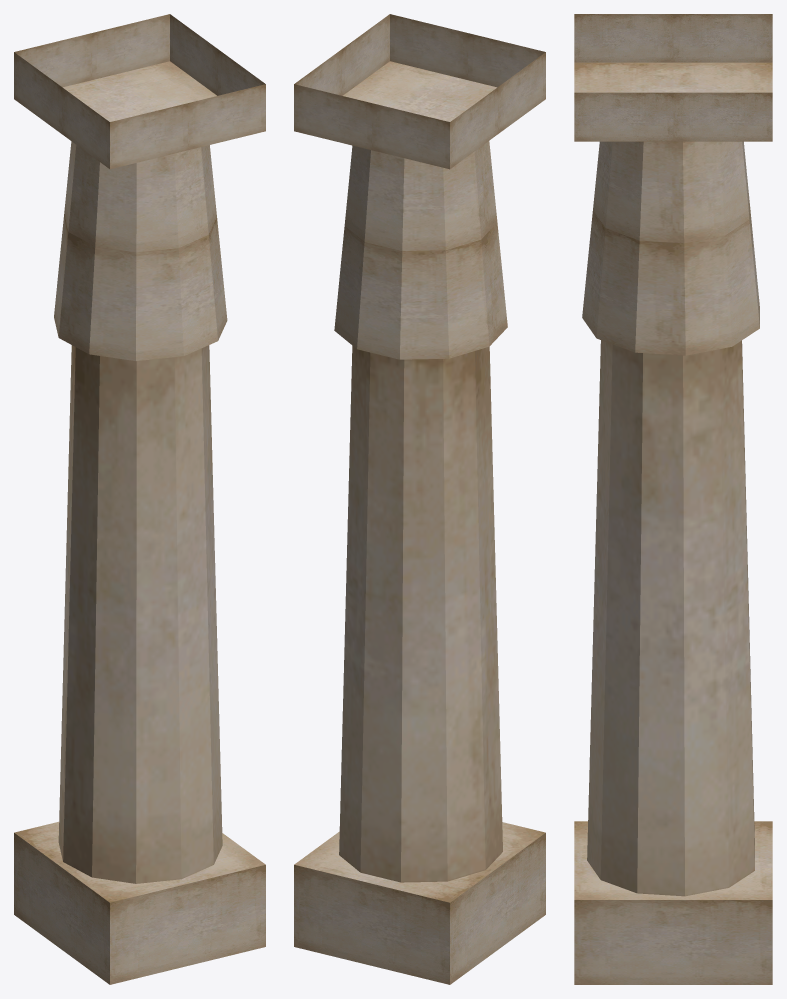
The model's file is luxorpillar04_lvs.obj.
3 renders of one model, left to right at view 1: azimuth 30°, elevation 25°; view 2: azimuth 150°, elevation 25°; view 3: azimuth 270°, elevation 25°, orthographic. The views are drawn at different scales.
Parts seen in each view (by area): view 1: luxorpillar04_lvs; view 2: luxorpillar04_lvs; view 3: luxorpillar04_lvs.
Part boxes in pixels (bbox=[...]): luxorpillar04_lvs: bbox=[14, 14, 265, 984]; luxorpillar04_lvs: bbox=[294, 14, 545, 984]; luxorpillar04_lvs: bbox=[574, 14, 772, 984].
Bounding box in the file's own units: 1.52 × 8.03 × 1.62.
Materials: 1 (1 with a texture image).
